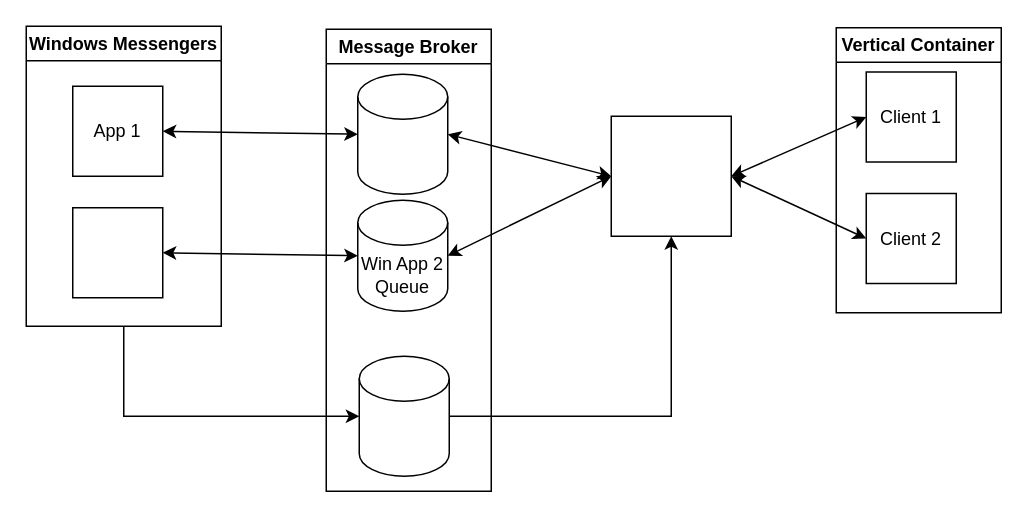
The diagram is 1028 pixels wide and 518 high, and some of its shapes have lost their labels. The box of each missing label's shape, as (x1, y1, x2, y2) in pixels:
App 2: (71, 206, 163, 298)
Live Win Apps: (358, 355, 449, 476)
Web App: (610, 115, 731, 236)
Win App 1 Queue: (356, 73, 448, 194)
